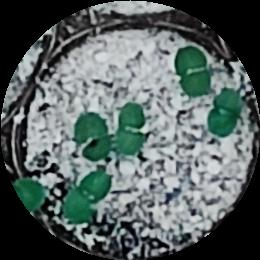Basil: (68, 172, 112, 222), (206, 90, 242, 137), (178, 47, 209, 100), (119, 103, 148, 155), (73, 113, 110, 153)
